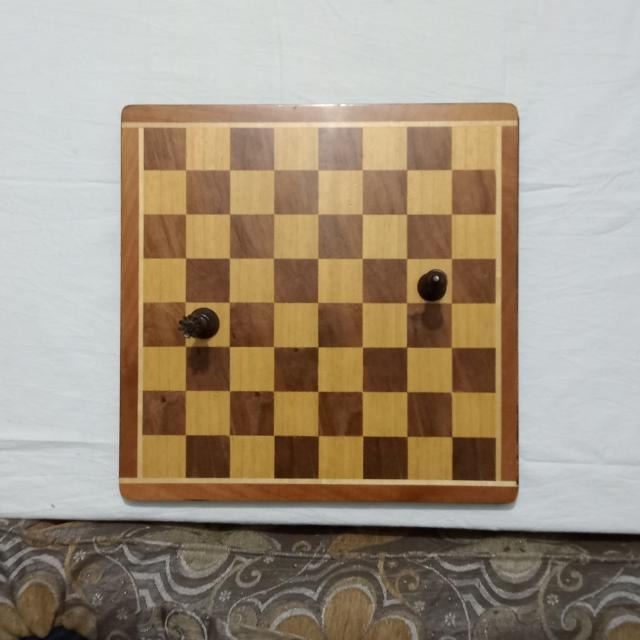black-king: (417, 266, 451, 301)
black-queen: (176, 305, 220, 339)
